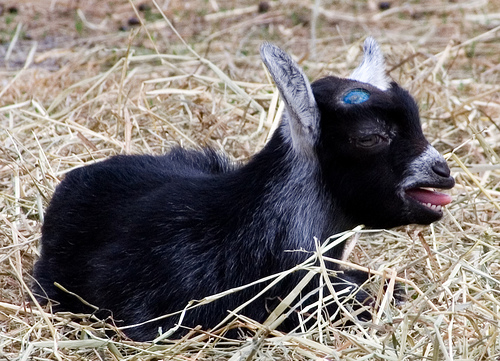goat: (27, 35, 455, 343)
